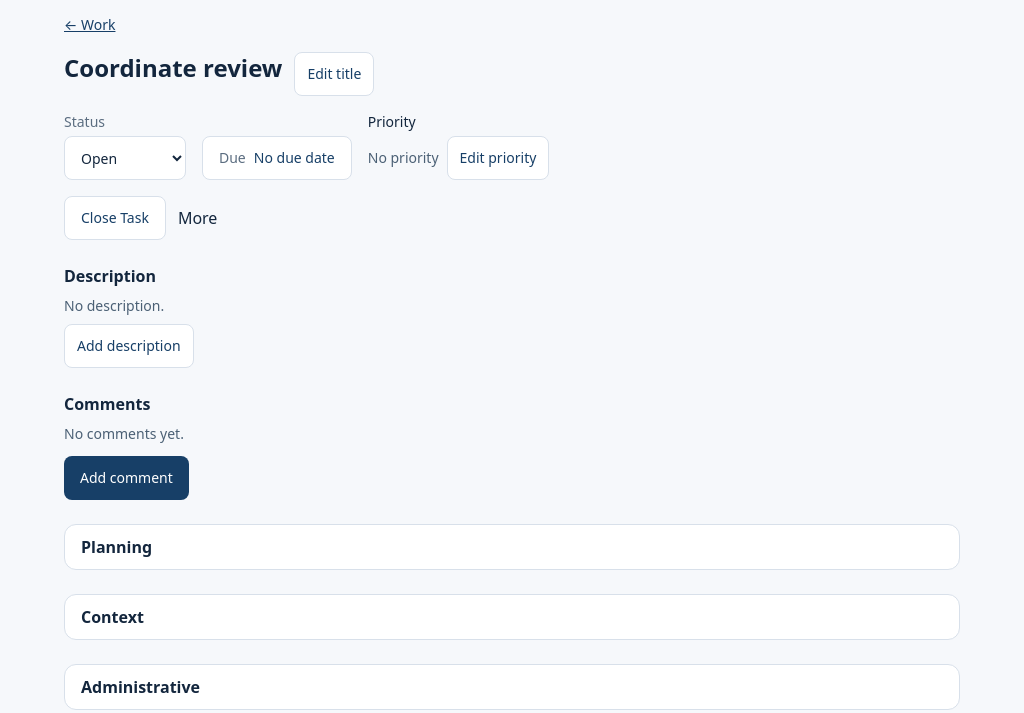
Test: TaskDetailView authoritative draft / conflict › does not silently reset the draft and requires deliberate reapply after conflict
This screenshot has width=1024, height=713.
Click the button with test id "task-edit-title" at (334, 74), box [294, 52, 374, 96]
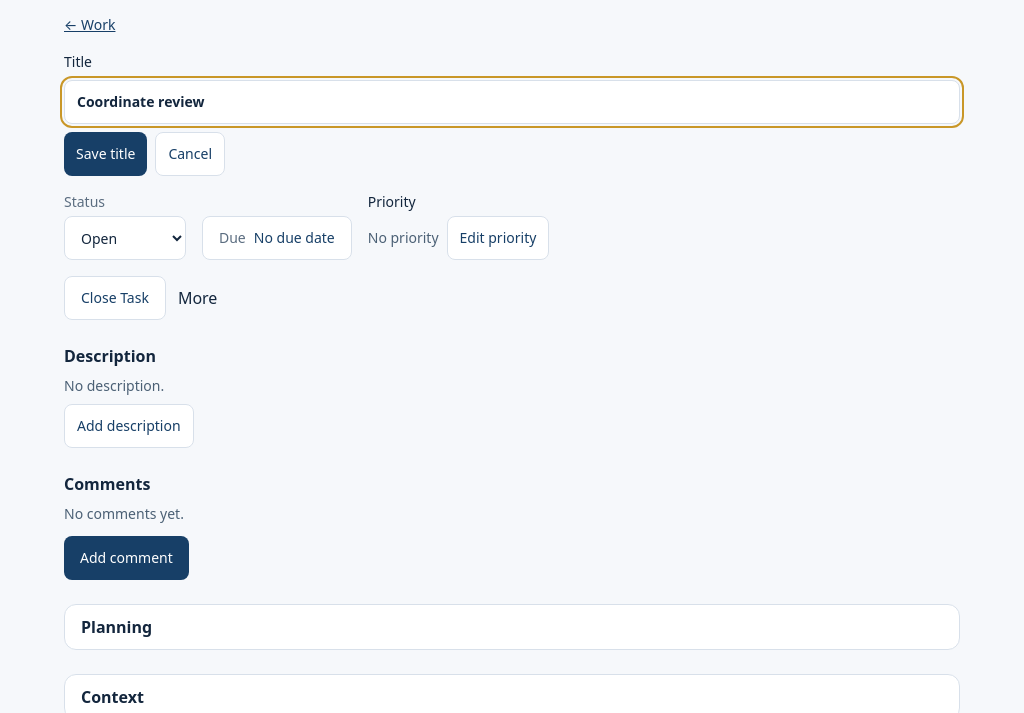
Replace the text in the field labelled "Title" with "Proposed title" at (512, 102), box [64, 80, 960, 124]
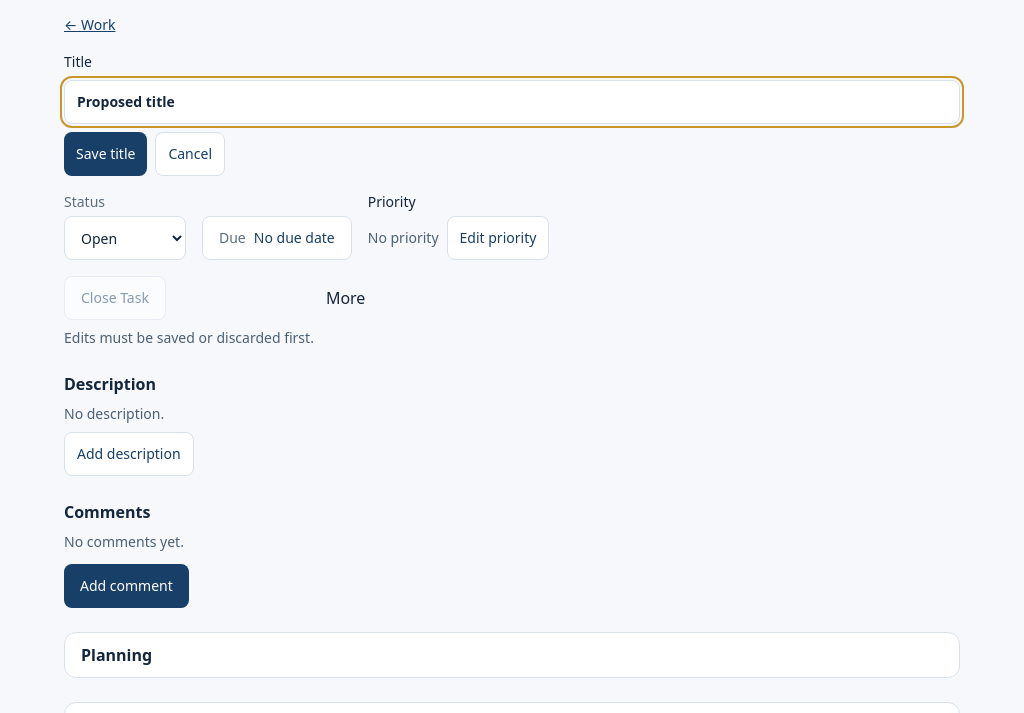
Click the button "Save title" at (106, 154), box [64, 132, 147, 176]
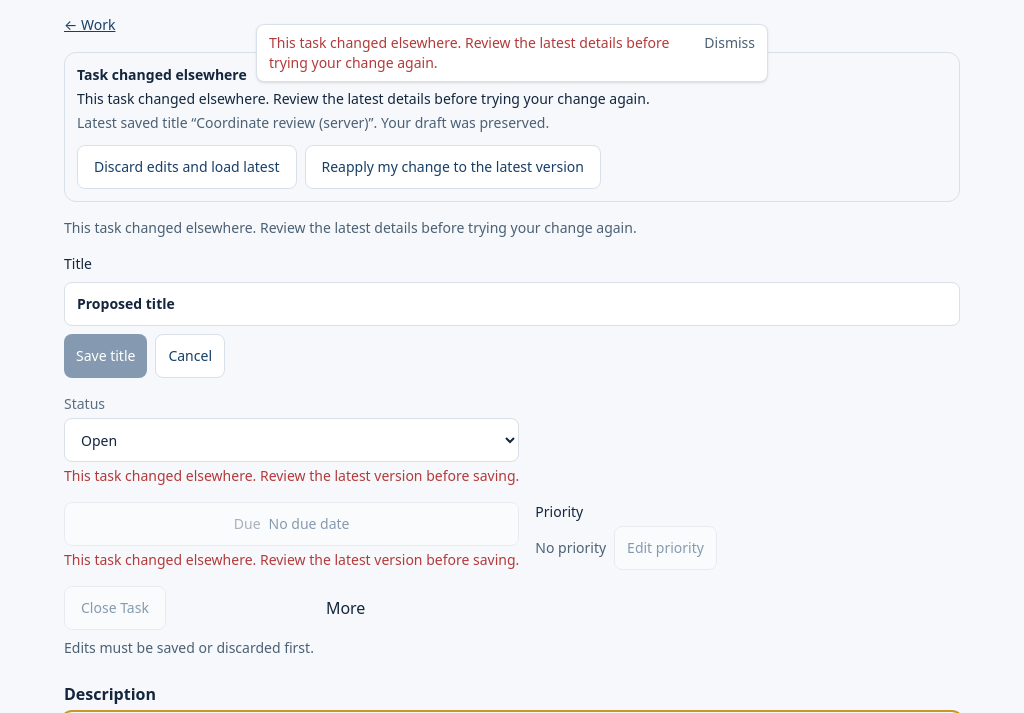
Click the button "Reapply my change to the latest version" at (453, 167), box [304, 145, 601, 189]
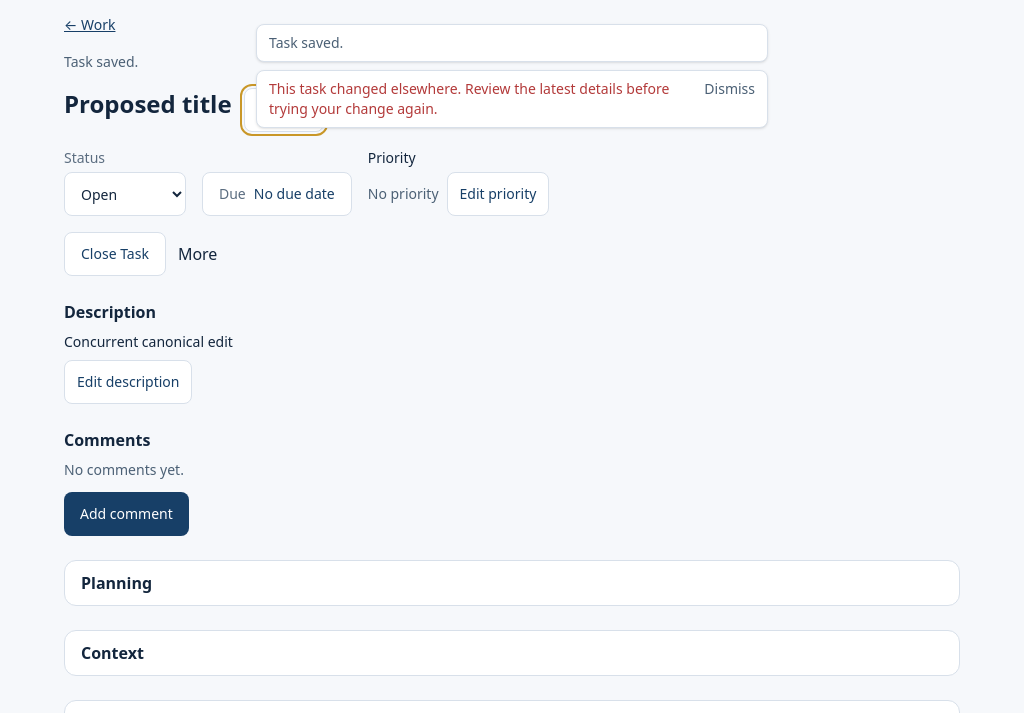
expect the message with test id "task-changed-elsewhere" is gone: met
expect the heading "Proposed title" is shown: met, box [64, 88, 232, 120]
expect the text with test id "task-close-blocked-reason" is gone: met
